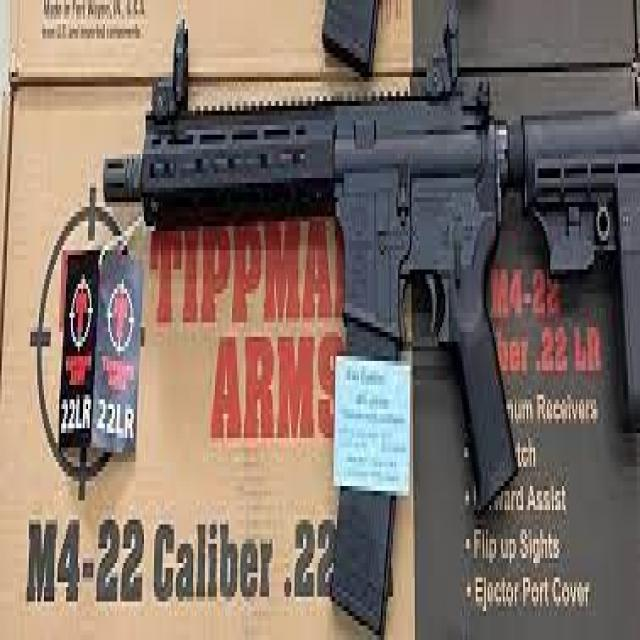m16: (118, 28, 525, 536)
